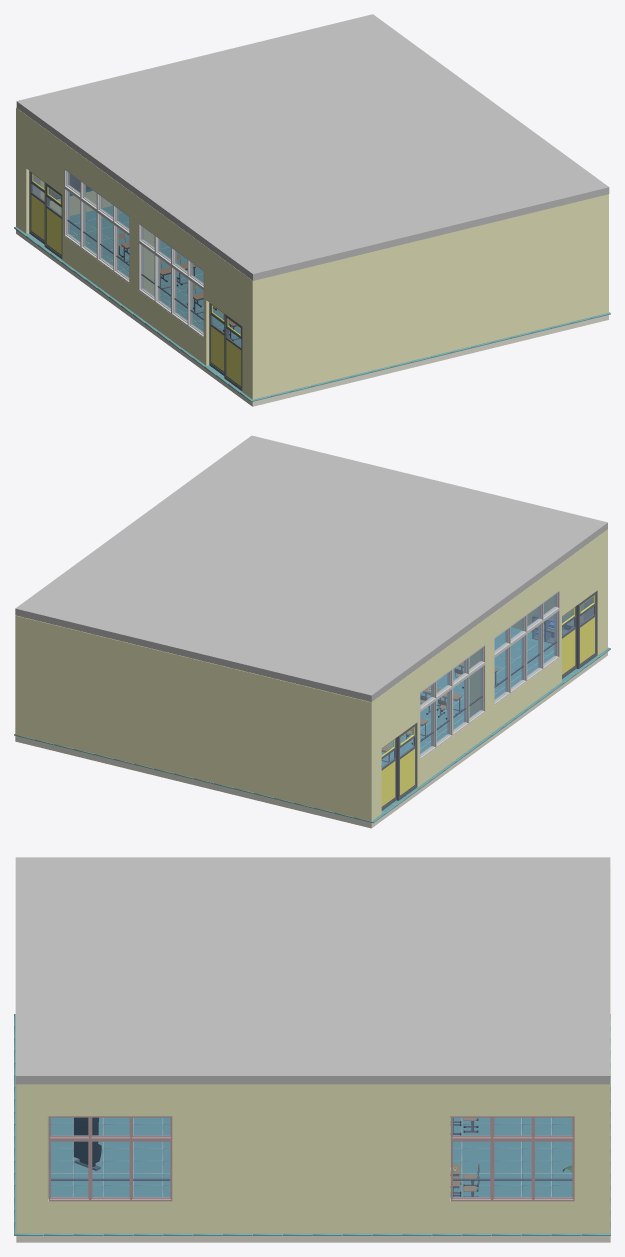
The model's file is K-Language Zone in.fbx.
3 renders of one model, top to bottom at view 1: azimuth 30°, elevation 25°; view 2: azimuth 150°, elevation 25°; view 3: azimuth 270°, elevation 25°, orthographic. The views are drawn at different scales.
Parts seen in each view (by area): view 1: _pCube224, group137_group133__pPlane2.006, _glass_Cube2.004, _pCube252.001, _pCube252, _pCube249.001, _pCube257.001, _pCube267.001, _pCube272.001, _pCube2.084, pCube2.080, _pCube2.047 (+3 smaller); view 2: _pCube224, group137_group133__pPlane2.006, _glass_Cube2.004, _pCube252.001, _pCube252, _pCube272.001, pCube2.080, _pCube2.084, _pCube257.001, _pCube249.001, _pCube267.001, _pCube2.047 (+2 smaller); view 3: _pCube224, group137_group133__pPlane2.006, _pCube252.001, Cylinder.003, _pCube252, Cylinder.002, Cylinder.001, kiosk_main.001, props_01_0626_pCube458.
Part boxes in pixels (x1=…): _pCube224: x1=16, y1=14, x2=609, y2=280; group137_group133__pPlane2.006: x1=16, y1=107, x2=608, y2=399; _glass_Cube2.004: x1=67, y1=172, x2=203, y2=333; _pCube252.001: x1=14, y1=206, x2=610, y2=401; _pCube252: x1=16, y1=215, x2=608, y2=406; _pCube249.001: x1=64, y1=168, x2=97, y2=259; _pCube257.001: x1=171, y1=247, x2=204, y2=337; _pCube267.001: x1=138, y1=223, x2=171, y2=313; _pCube272.001: x1=97, y1=193, x2=129, y2=283; _pCube2.084: x1=44, y1=182, x2=62, y2=259; pCube2.080: x1=224, y1=313, x2=242, y2=391; _pCube2.047: x1=29, y1=171, x2=49, y2=244; _pCube224: x1=15, y1=435, x2=607, y2=702; group137_group133__pPlane2.006: x1=15, y1=529, x2=607, y2=821; _glass_Cube2.004: x1=420, y1=594, x2=556, y2=754; _pCube252.001: x1=14, y1=627, x2=610, y2=823; _pCube252: x1=15, y1=644, x2=607, y2=828; _pCube272.001: x1=452, y1=645, x2=485, y2=735; pCube2.080: x1=576, y1=591, x2=596, y2=668; _pCube2.084: x1=396, y1=723, x2=416, y2=800; _pCube257.001: x1=527, y1=590, x2=559, y2=681; _pCube249.001: x1=420, y1=669, x2=452, y2=759; _pCube267.001: x1=494, y1=614, x2=526, y2=704; _pCube2.047: x1=381, y1=737, x2=396, y2=810; _pCube224: x1=15, y1=857, x2=610, y2=1084; group137_group133__pPlane2.006: x1=16, y1=866, x2=610, y2=1233; _pCube252.001: x1=14, y1=1014, x2=610, y2=1235; Cylinder.003: x1=51, y1=1118, x2=571, y2=1197; _pCube252: x1=16, y1=1118, x2=610, y2=1242; Cylinder.002: x1=48, y1=1116, x2=172, y2=1201; Cylinder.001: x1=451, y1=1116, x2=574, y2=1201; kiosk_main.001: x1=73, y1=1117, x2=101, y2=1170; props_01_0626_pCube458: x1=450, y1=1116, x2=479, y2=1196.
Bounding box in the file's own units: 1242 × 438 × 1421.
